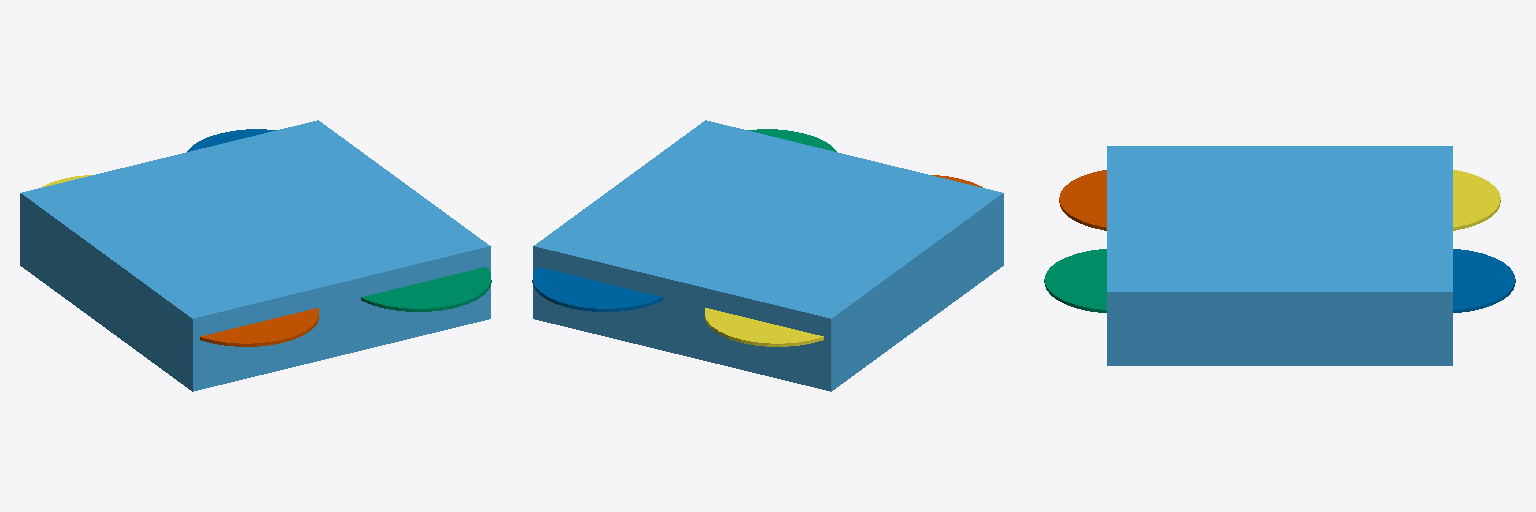
robot.urdf — iris:
<?xml version="1.0" ?>
<!-- Minimal Iris stand-in for unit tests (no mesh assets required).
     Joint layout matches ArduPilot's iris.urdf so motor link indices stay 1-4. -->
<robot name="iris">
  <link name="iris/base_link"/>
  <joint name="iris/base_joint" type="fixed">
    <origin rpy="0 0 0" xyz="0 0 0"/>
    <parent link="iris/base_link"/>
    <child link="iris/base_link_inertia"/>
  </joint>
  <link name="iris/base_link_inertia">
    <inertial>
      <mass value="1.5"/>
      <origin xyz="0 0 0"/>
      <inertia ixx="0.0347563" ixy="0.0" ixz="0.0" iyy="0.0458929" iyz="0.0" izz="0.0977"/>
    </inertial>
    <visual>
      <origin rpy="0 0 0" xyz="0 0 0"/>
      <geometry>
        <box size="0.47 0.47 0.11"/>
      </geometry>
    </visual>
    <collision>
      <origin rpy="0 0 0" xyz="0 0 0"/>
      <geometry>
        <box size="0.47 0.47 0.11"/>
      </geometry>
    </collision>
  </link>

  <joint name="iris/rotor_0_joint" type="continuous">
    <origin rpy="0 0 0" xyz="0.13 -0.22 0.023"/>
    <axis xyz="0 0 1"/>
    <parent link="iris/base_link"/>
    <child link="iris/rotor_0"/>
  </joint>
  <link name="iris/rotor_0">
    <inertial>
      <mass value="0.00005"/>
      <inertia ixx="9.75e-07" ixy="0" ixz="0" iyy="4.17e-05" iyz="0" izz="4.26e-05"/>
    </inertial>
    <visual>
      <geometry>
        <cylinder length="0.005" radius="0.1"/>
      </geometry>
    </visual>
    <collision>
      <geometry>
        <cylinder length="0.005" radius="0.1"/>
      </geometry>
    </collision>
  </link>

  <joint name="iris/rotor_1_joint" type="continuous">
    <origin rpy="0 0 0" xyz="-0.13 0.2 0.023"/>
    <axis xyz="0 0 1"/>
    <parent link="iris/base_link"/>
    <child link="iris/rotor_1"/>
  </joint>
  <link name="iris/rotor_1">
    <inertial>
      <mass value="0.00005"/>
      <inertia ixx="9.75e-07" ixy="0" ixz="0" iyy="4.17e-05" iyz="0" izz="4.26e-05"/>
    </inertial>
    <visual>
      <geometry>
        <cylinder length="0.005" radius="0.1"/>
      </geometry>
    </visual>
    <collision>
      <geometry>
        <cylinder length="0.005" radius="0.1"/>
      </geometry>
    </collision>
  </link>

  <joint name="iris/rotor_2_joint" type="continuous">
    <origin rpy="0 0 0" xyz="0.13 0.22 0.023"/>
    <axis xyz="0 0 1"/>
    <parent link="iris/base_link"/>
    <child link="iris/rotor_2"/>
  </joint>
  <link name="iris/rotor_2">
    <inertial>
      <mass value="0.00005"/>
      <inertia ixx="9.75e-07" ixy="0" ixz="0" iyy="4.17e-05" iyz="0" izz="4.26e-05"/>
    </inertial>
    <visual>
      <geometry>
        <cylinder length="0.005" radius="0.1"/>
      </geometry>
    </visual>
    <collision>
      <geometry>
        <cylinder length="0.005" radius="0.1"/>
      </geometry>
    </collision>
  </link>

  <joint name="iris/rotor_3_joint" type="continuous">
    <origin rpy="0 0 0" xyz="-0.13 -0.2 0.023"/>
    <axis xyz="0 0 1"/>
    <parent link="iris/base_link"/>
    <child link="iris/rotor_3"/>
  </joint>
  <link name="iris/rotor_3">
    <inertial>
      <mass value="0.00005"/>
      <inertia ixx="9.75e-07" ixy="0" ixz="0" iyy="4.17e-05" iyz="0" izz="4.26e-05"/>
    </inertial>
    <visual>
      <geometry>
        <cylinder length="0.005" radius="0.1"/>
      </geometry>
    </visual>
    <collision>
      <geometry>
        <cylinder length="0.005" radius="0.1"/>
      </geometry>
    </collision>
  </link>
</robot>

--- Facts derived from the render (not from the file) ---
3 views of the same robot in one strip: view 1: azimuth 30°, elevation 25°; view 2: azimuth 150°, elevation 25°; view 3: azimuth 270°, elevation 25° (orthographic).
Robot: iris — 6 links, 5 joints (4 continuous, 1 fixed); root link iris/base_link; default pose: every joint at zero.
Visible links, largest first — view 1: iris/base_link_inertia, iris/rotor_0, iris/rotor_3, iris/rotor_2; view 2: iris/base_link_inertia, iris/rotor_2, iris/rotor_1, iris/rotor_0; view 3: iris/base_link_inertia, iris/rotor_0, iris/rotor_2, iris/rotor_1, iris/rotor_3.
Boxes of the visible links, x1,y1,x2,y2 form: iris/base_link_inertia: [20, 120, 490, 391]; iris/rotor_0: [361, 267, 491, 311]; iris/rotor_3: [200, 308, 318, 346]; iris/rotor_2: [187, 129, 275, 151]; iris/base_link_inertia: [533, 120, 1003, 391]; iris/rotor_2: [532, 267, 662, 311]; iris/rotor_1: [705, 308, 823, 346]; iris/rotor_0: [748, 129, 836, 151]; iris/base_link_inertia: [1107, 146, 1452, 365]; iris/rotor_0: [1044, 249, 1106, 312]; iris/rotor_2: [1453, 249, 1515, 312]; iris/rotor_1: [1453, 170, 1500, 230]; iris/rotor_3: [1059, 170, 1106, 230].
Size in the robot's own frame: 0.47 by 0.64 by 0.11 metres.
Geometry: primitives only (box / cylinder / sphere), no mesh files.
